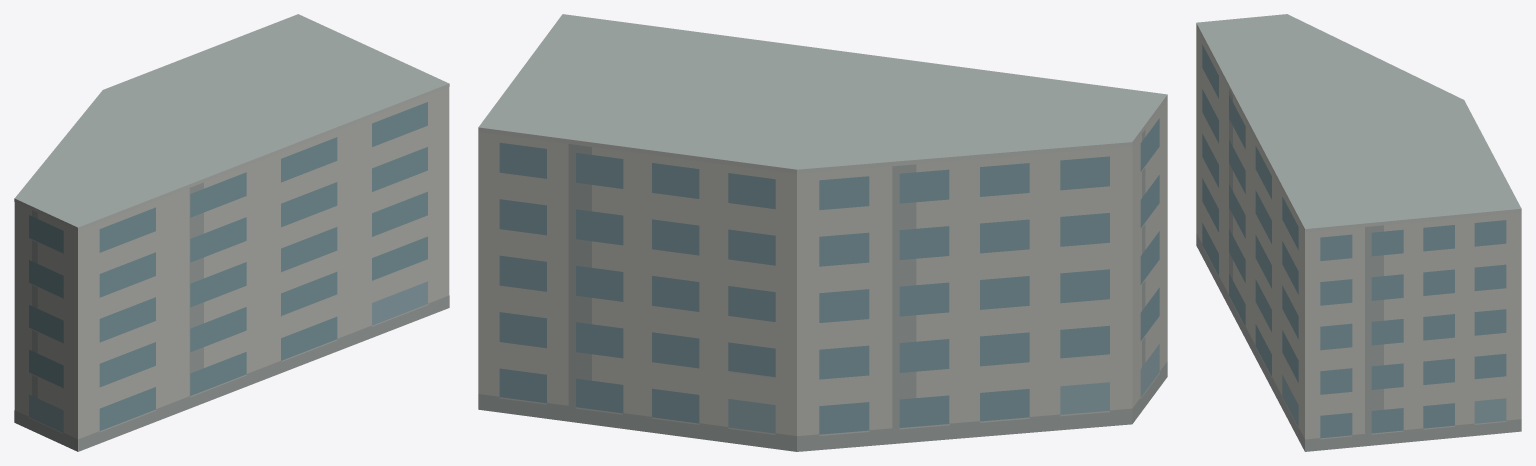
The model's file is residential-6e1beb91-40c6-4dde-934a-b76c8109cd9b.glb.
The picture shows the model from 3 angles, left to right: view 1: azimuth 30°, elevation 25°; view 2: azimuth 150°, elevation 25°; view 3: azimuth 270°, elevation 25°; orthographic projection. The views are drawn at different scales.
Parts seen in each view (by area): view 1: residential-6e1beb91-40c6-4dde-934a-b76c8109cd9b.tmp; view 2: residential-6e1beb91-40c6-4dde-934a-b76c8109cd9b.tmp; view 3: residential-6e1beb91-40c6-4dde-934a-b76c8109cd9b.tmp.
Boxes of the visible parts, x1=… form: residential-6e1beb91-40c6-4dde-934a-b76c8109cd9b.tmp: x1=14, y1=14, x2=449, y2=451; residential-6e1beb91-40c6-4dde-934a-b76c8109cd9b.tmp: x1=478, y1=14, x2=1167, y2=451; residential-6e1beb91-40c6-4dde-934a-b76c8109cd9b.tmp: x1=1196, y1=14, x2=1521, y2=451.
Bounding box in the file's own units: 31.59 × 15.25 × 20.19.
